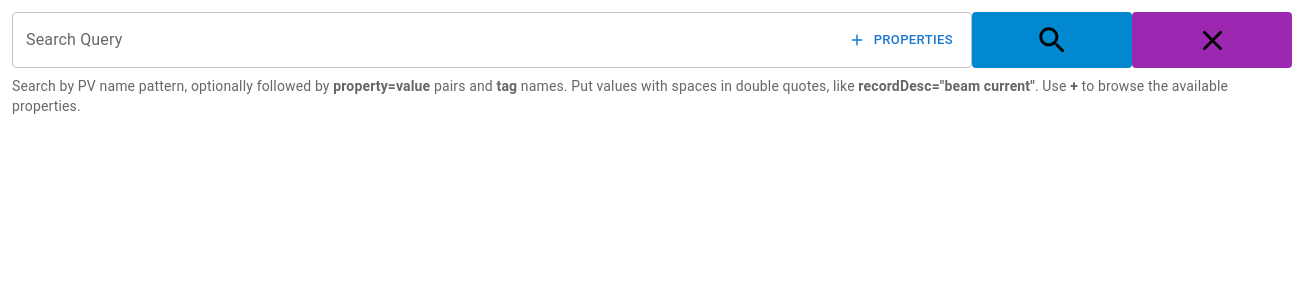
Scenario: back returns from a property's values to the properties list
Click the button "Properties" at (901, 40), box top-left (845, 25), bottom-right (958, 55)
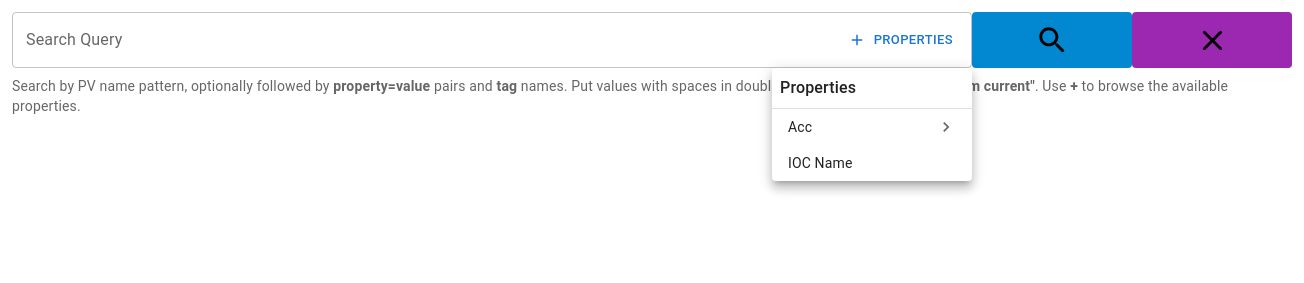
Click the button "Acc" at (800, 127), box top-left (788, 117), bottom-right (956, 137)
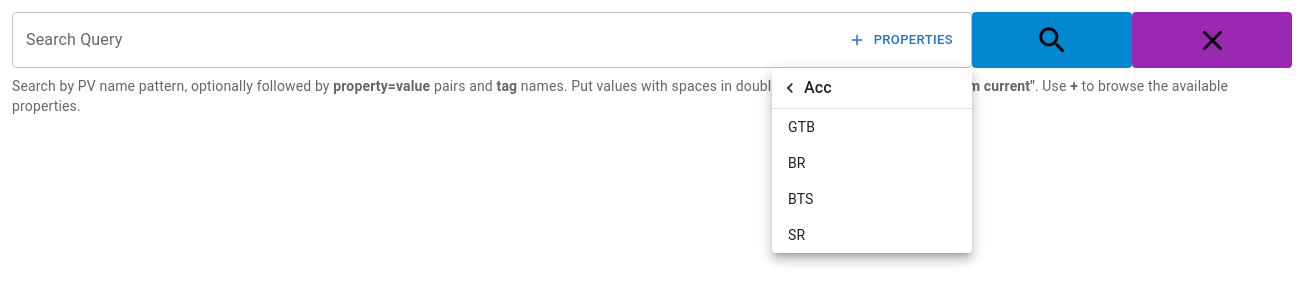
Expected: the button "IOC Name" is gone
Click the button "Acc" at (872, 88), box top-left (772, 68), bottom-right (972, 109)
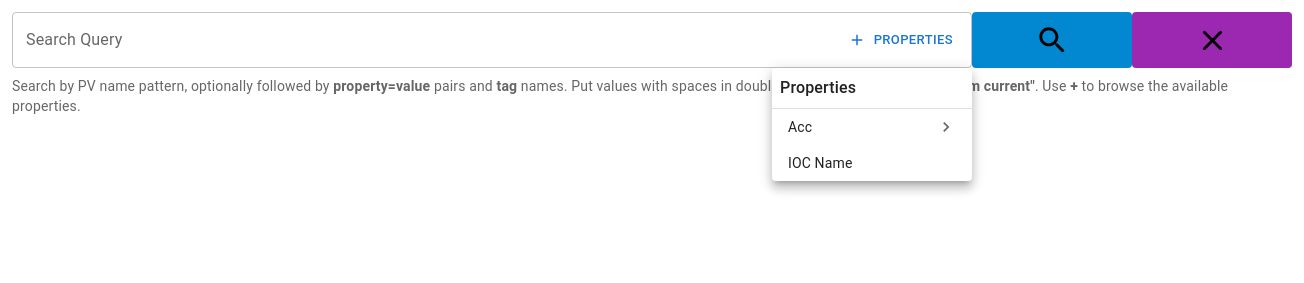
Expected: the button "IOC Name" is shown, top-left (788, 155), bottom-right (852, 171)
Expected: the button "GTB" is gone
